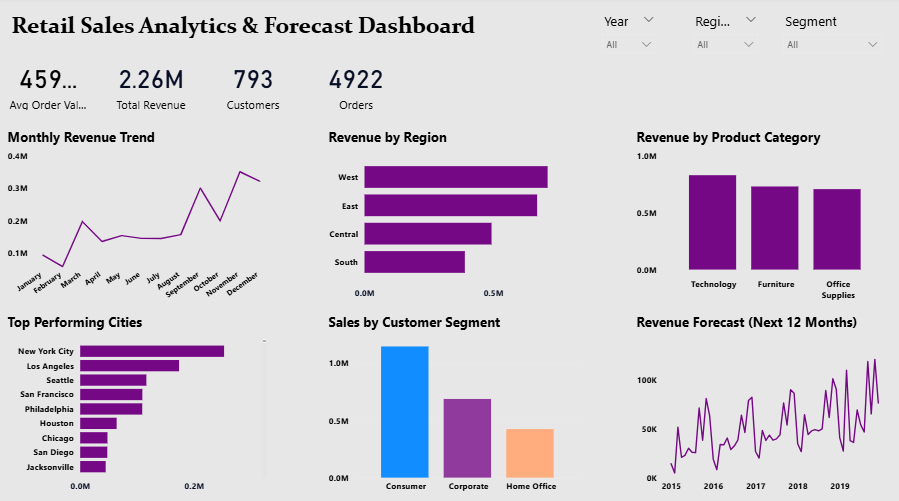

What the dashboard file says about the page in this screenshot:
{"tool":"powerbi","page":{"name":"Page 1","canvas":[1280,720],"ordinal":0},"visuals":[{"type":"card","fields":{"Values":["retail_sales_cleaned.aov"]},"box":[10,81.7,125,83.3],"z":0},{"type":"card","fields":{"Values":["retail_sales_cleaned.total_customers"]},"box":[301.1,81.7,125,83.3],"z":1000},{"type":"card","fields":{"Values":["retail_sales_cleaned.total_orders"]},"box":[446.7,81.7,125,83.3],"z":2000},{"type":"card","fields":{"Values":["retail_sales_cleaned.total_revenue"]},"box":[155.6,81.7,125,83.3],"z":3000},{"type":"lineChart","title":"Monthly Revenue Trend","fields":{"Category":["retail_sales_cleaned.order_date.Variation.Date Hierarchy.Month"],"Y":["Sum(retail_sales_cleaned.sales)"]},"box":[10,185,378.3,251.7],"z":4000},{"type":"barChart","title":"Revenue by Region","fields":{"Category":["retail_sales_cleaned.region"],"Y":["Sum(retail_sales_cleaned.sales)"]},"box":[465,185,368.3,251.7],"z":5000},{"type":"columnChart","title":"Revenue by Product Category","fields":{"Category":["retail_sales_cleaned.category"],"Y":["Sum(retail_sales_cleaned.sales)"]},"box":[901.7,185,366.7,251.7],"z":6000},{"type":"barChart","title":"Top Performing Cities","fields":{"Category":["retail_sales_cleaned.city"],"Y":["Sum(retail_sales_cleaned.sales)"]},"box":[10,448.3,378.3,263.3],"z":7000},{"type":"columnChart","title":"Sales by Customer Segment","fields":{"Category":["retail_sales_cleaned.segment"],"Y":["Sum(retail_sales_cleaned.sales)"]},"box":[465,448.3,368.3,263.3],"z":8000},{"type":"lineChart","title":"Revenue Forecast (Next 12 Months)","fields":{"Y":["Sum(sales_forecast.yhat)"],"Category":["sales_forecast.ds"]},"box":[901.7,448.3,366.7,263.3],"z":9000},{"type":"slicer","fields":{"Values":["retail_sales_cleaned.region"]},"box":[976,16,112,80],"z":10000},{"type":"slicer","fields":{"Values":["retail_sales_cleaned.segment"]},"box":[1104,16,160,80],"z":11000},{"type":"slicer","fields":{"Values":["retail_sales_cleaned.order_date.Variation.Date Hierarchy.Year"]},"box":[848,16,96,80],"z":12000},{"type":"textbox","box":[16,16,688,64],"z":13000}]}

Visuals, with their boxes in screenshot pixels (x1, y1, x2, y2), scaled from the page's 1280x720 canvas onto the 899x501 screenshot:
card - retail_sales_cleaned.aov: left=7, top=57, right=95, bottom=115
card - retail_sales_cleaned.total_customers: left=211, top=57, right=299, bottom=115
card - retail_sales_cleaned.total_orders: left=314, top=57, right=402, bottom=115
card - retail_sales_cleaned.total_revenue: left=109, top=57, right=197, bottom=115
"Monthly Revenue Trend" lineChart: left=7, top=129, right=273, bottom=304
"Revenue by Region" barChart: left=327, top=129, right=585, bottom=304
"Revenue by Product Category" columnChart: left=633, top=129, right=891, bottom=304
"Top Performing Cities" barChart: left=7, top=312, right=273, bottom=495
"Sales by Customer Segment" columnChart: left=327, top=312, right=585, bottom=495
"Revenue Forecast (Next 12 Months)" lineChart: left=633, top=312, right=891, bottom=495
slicer - retail_sales_cleaned.region: left=685, top=11, right=764, bottom=67
slicer - retail_sales_cleaned.segment: left=775, top=11, right=888, bottom=67
slicer - retail_sales_cleaned.order_date.Variation.Date Hierarchy.Year: left=596, top=11, right=663, bottom=67
textbox: left=11, top=11, right=494, bottom=56
